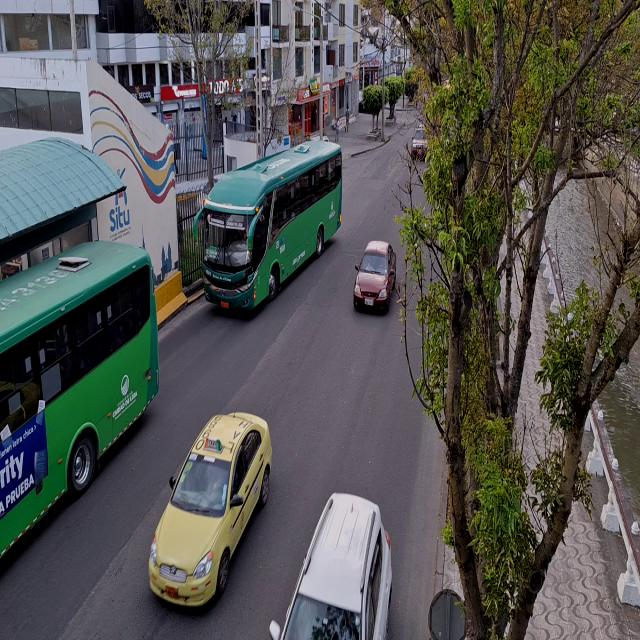BUS: (0, 251, 146, 628), (199, 145, 344, 317)
